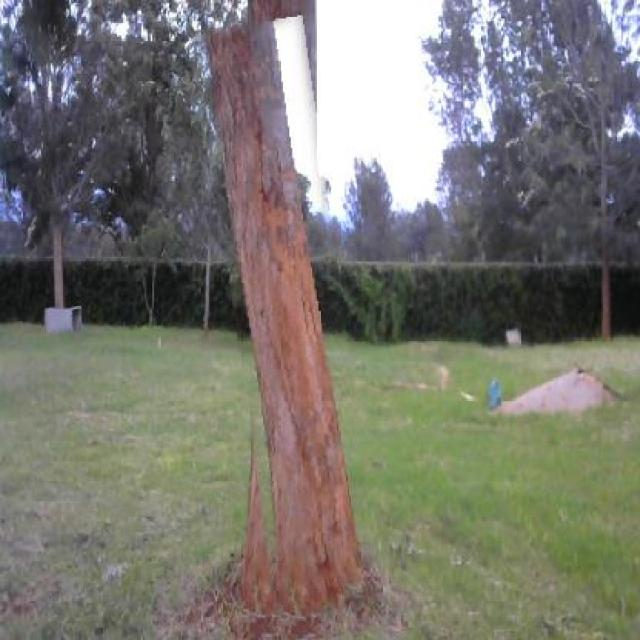tree trunk: (216, 17, 366, 640)
